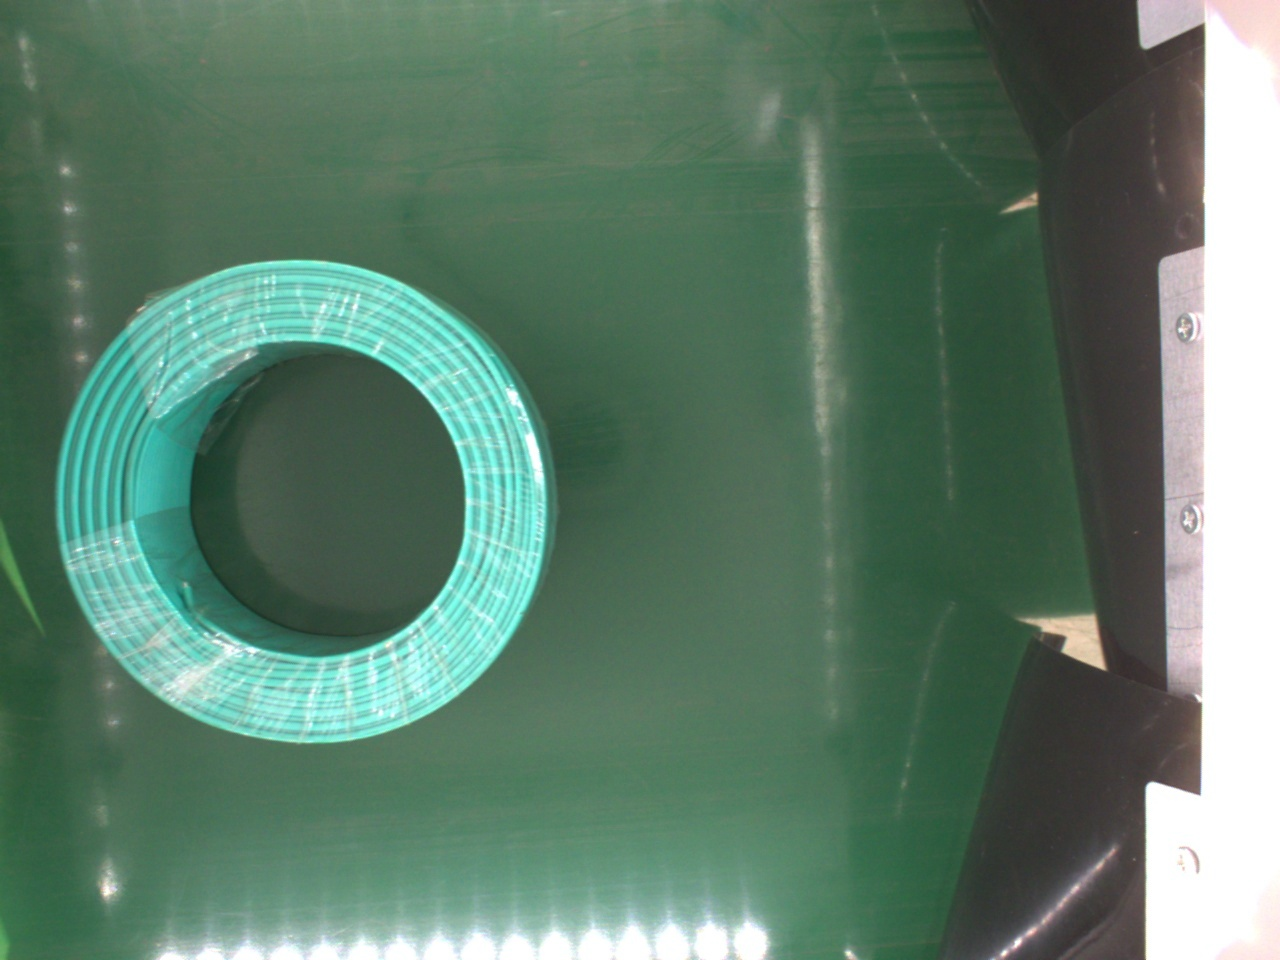green: (55, 265, 545, 744)
